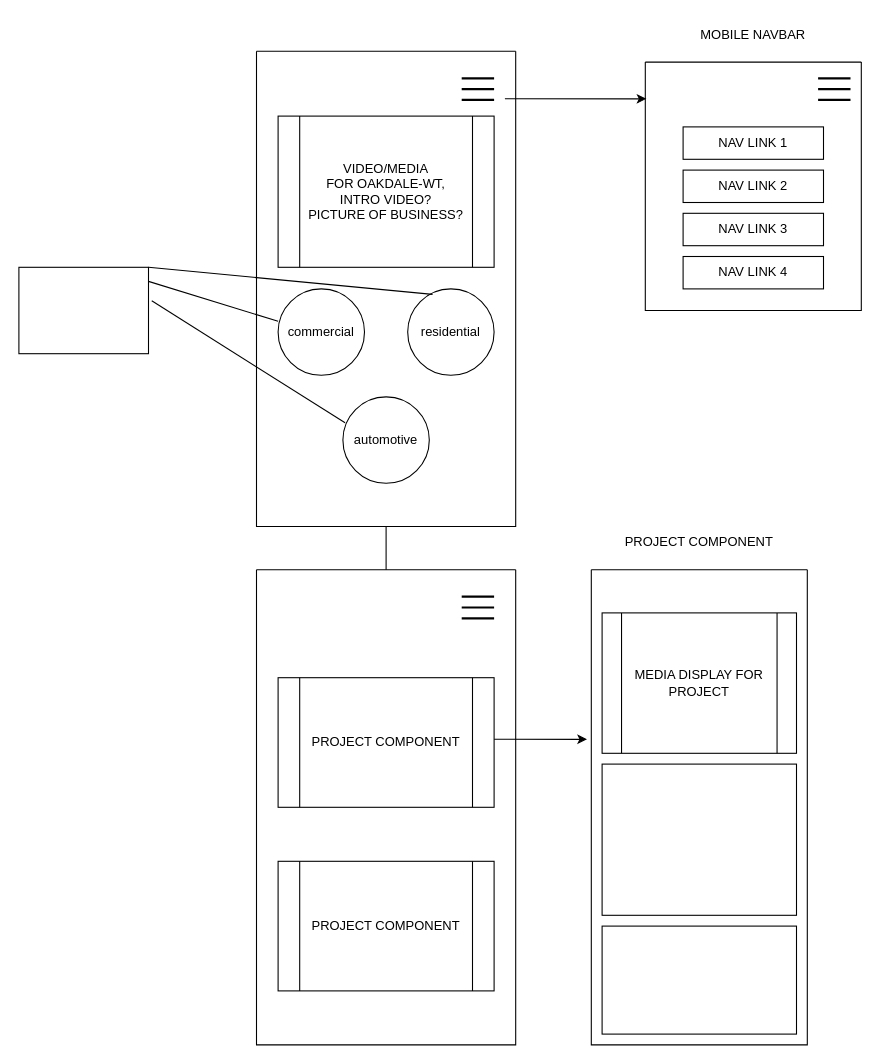
This 880x1064 diagram has some shape labels left out. The shapes that lost their labels are listed below. From the top down, each one's centre as x and y in pixels, then its label:
At (83,310): "ROUTE LINKS TO DIFFERENT SECTIONS OF WEBSITE".
At (698,839): "DESCRIPTION OF PROJECT".
At (698,979): "TESTIMONIAL FROM CUSTOMER ABOUT PROJECT AND/OR EXPERIENCE WITH COMPANY".
